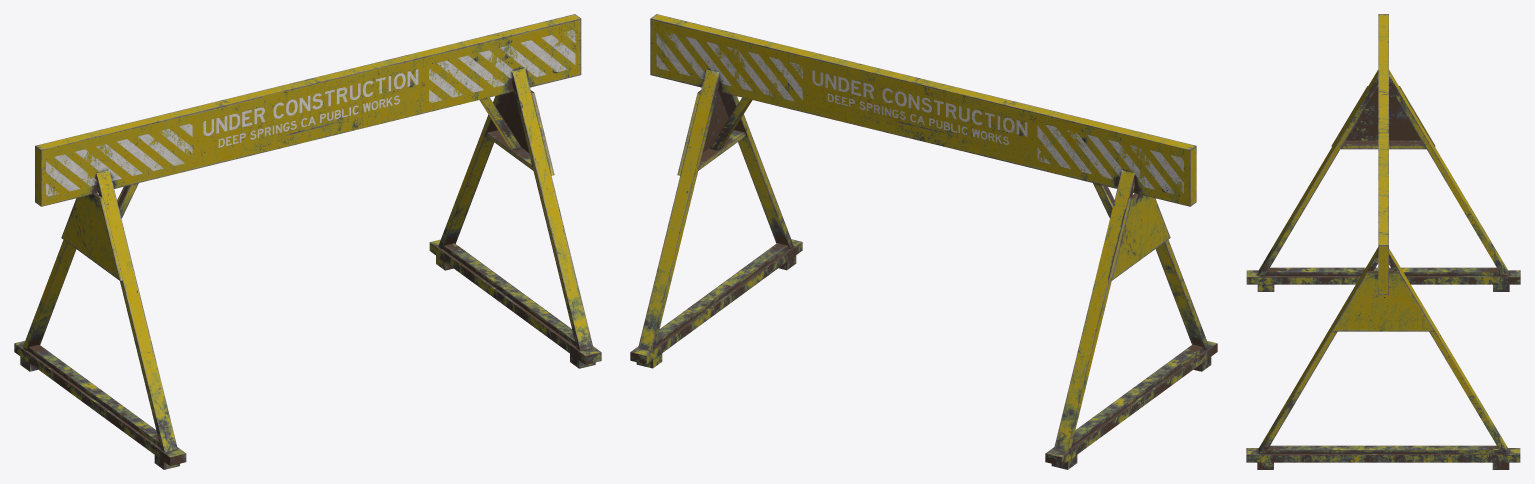
Rendered from Police Crowd Barrier.fbx.
3 renders of one model, left to right at view 1: azimuth 30°, elevation 25°; view 2: azimuth 150°, elevation 25°; view 3: azimuth 270°, elevation 25°, orthographic. The views are drawn at different scales.
Parts seen in each view (by area): view 1: Cube; view 2: Cube; view 3: Cube.
Boxes of the visible parts, x1,y1,x2,y2 form: Cube: (14,14,601,469); Cube: (630,14,1217,469); Cube: (1246,14,1520,469).
Bounding box in the file's own units: 1000 × 500 × 501.
